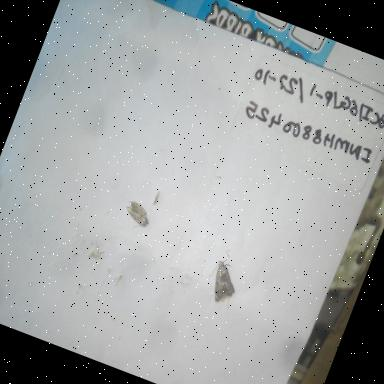pbw: (199, 245, 252, 310), (116, 194, 160, 239)
